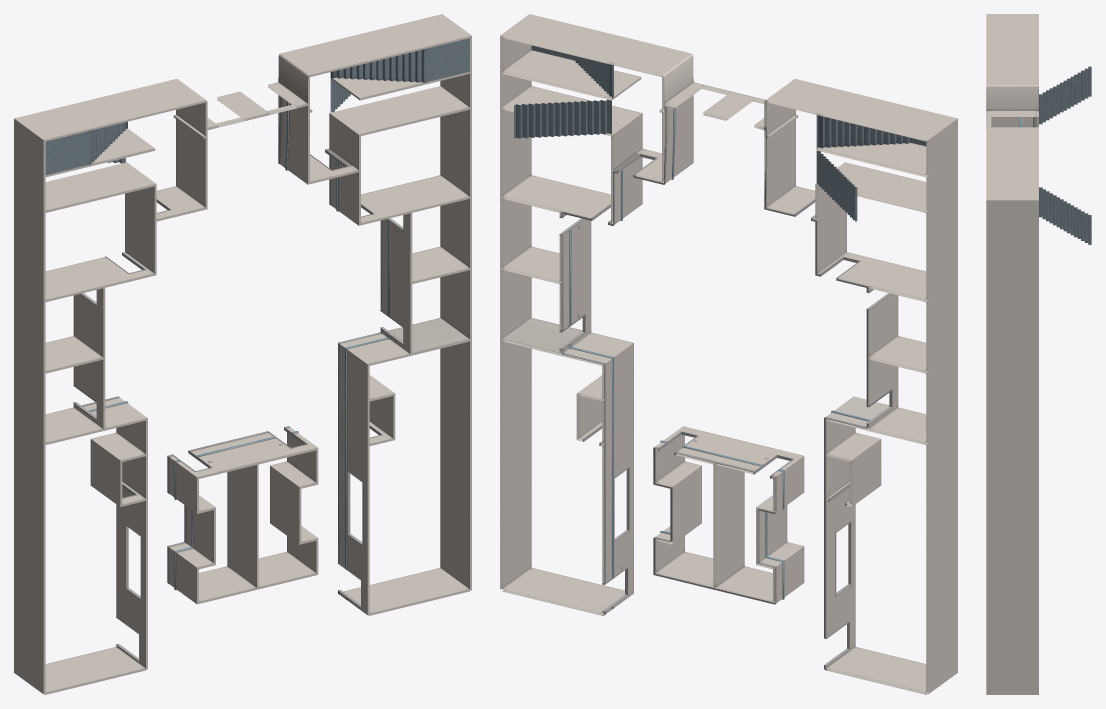
Rendered from aws_robomaker_hospital_floor_03_walls_visual.dae.
The picture shows the model from 3 angles, left to right: view 1: azimuth 30°, elevation 25°; view 2: azimuth 150°, elevation 25°; view 3: azimuth 270°, elevation 25°; orthographic projection. The views are drawn at different scales.
Visible parts, largest first — view 1: aws_robomaker_hospital_floor_01_walls_visual, aws_robomaker_hospital_floor_01_stairs_visual, aws_robomaker_hospital_floor_01_handrail_visual, aws_robomaker_hospital_floor_01_bumprail_visual, aws_robomaker_hospital_floor_01_doorframes_small_visual, aws_robomaker_hospital_floor_01_windows_visual; view 2: aws_robomaker_hospital_floor_01_walls_visual, aws_robomaker_hospital_floor_01_stairs_visual, aws_robomaker_hospital_floor_01_bumprail_visual, aws_robomaker_hospital_floor_01_handrail_visual, aws_robomaker_hospital_floor_01_doorframes_small_visual, aws_robomaker_hospital_floor_01_windows_visual; view 3: aws_robomaker_hospital_floor_01_walls_visual, aws_robomaker_hospital_floor_01_stairs_visual.
Part boxes in pixels (x1,y1,x2,y2): aws_robomaker_hospital_floor_01_walls_visual: [14, 14, 471, 694]; aws_robomaker_hospital_floor_01_stairs_visual: [45, 38, 469, 174]; aws_robomaker_hospital_floor_01_handrail_visual: [88, 101, 389, 597]; aws_robomaker_hospital_floor_01_bumprail_visual: [81, 96, 382, 583]; aws_robomaker_hospital_floor_01_doorframes_small_visual: [73, 149, 404, 498]; aws_robomaker_hospital_floor_01_windows_visual: [125, 470, 362, 599]; aws_robomaker_hospital_floor_01_walls_visual: [500, 14, 957, 694]; aws_robomaker_hospital_floor_01_stairs_visual: [514, 45, 926, 221]; aws_robomaker_hospital_floor_01_bumprail_visual: [561, 106, 867, 637]; aws_robomaker_hospital_floor_01_handrail_visual: [569, 108, 870, 606]; aws_robomaker_hospital_floor_01_doorframes_small_visual: [559, 153, 892, 505]; aws_robomaker_hospital_floor_01_windows_visual: [614, 467, 851, 595]; aws_robomaker_hospital_floor_01_walls_visual: [986, 14, 1038, 694]; aws_robomaker_hospital_floor_01_stairs_visual: [1039, 66, 1091, 244].
Bounding box in the file's own units: 25.12 × 6 × 31.12.
8 materials, 8 textured.
